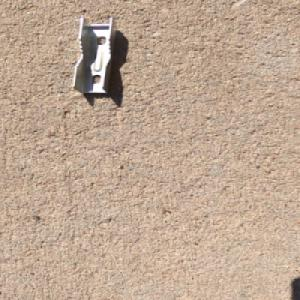ClampPart: (69, 14, 121, 96)
